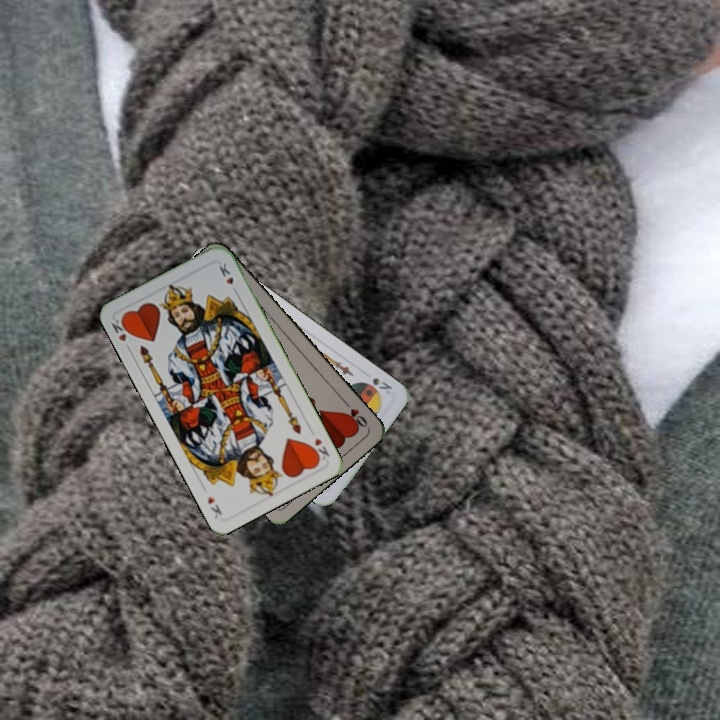HK: (107, 313, 134, 353), (307, 434, 332, 464)
HO: (340, 397, 370, 431)
SK: (368, 374, 395, 397)
